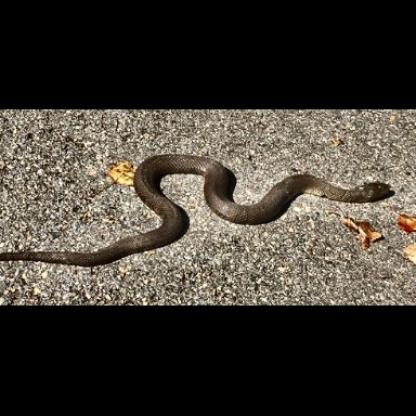Snake: (6, 155, 392, 273)
